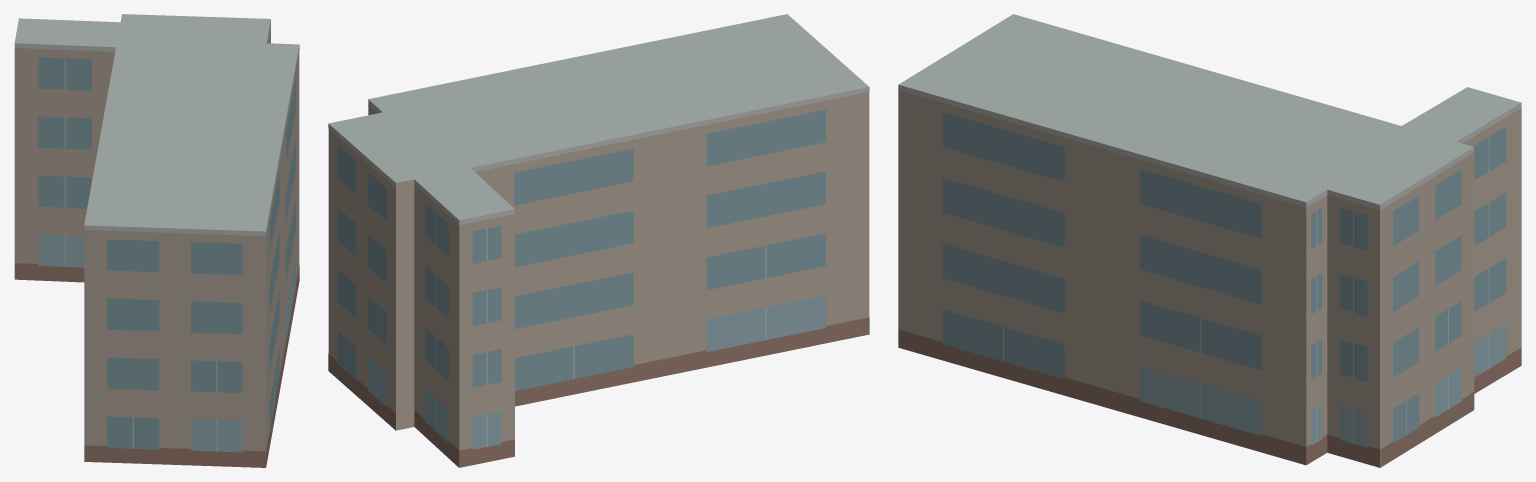
File: survey-upis-32913418.glb
3 renders of one model, left to right at view 1: azimuth 30°, elevation 25°; view 2: azimuth 150°, elevation 25°; view 3: azimuth 270°, elevation 25°, orthographic. The views are drawn at different scales.
Parts seen in each view (by area): view 1: survey-upis-32913418.tmp; view 2: survey-upis-32913418.tmp; view 3: survey-upis-32913418.tmp.
Boxes of the visible parts, bbox=[...] form: survey-upis-32913418.tmp: bbox=[14, 14, 299, 467]; survey-upis-32913418.tmp: bbox=[328, 14, 869, 467]; survey-upis-32913418.tmp: bbox=[898, 14, 1521, 467].
Size of the model in its own units: 19 by 12.2 by 26.22.
